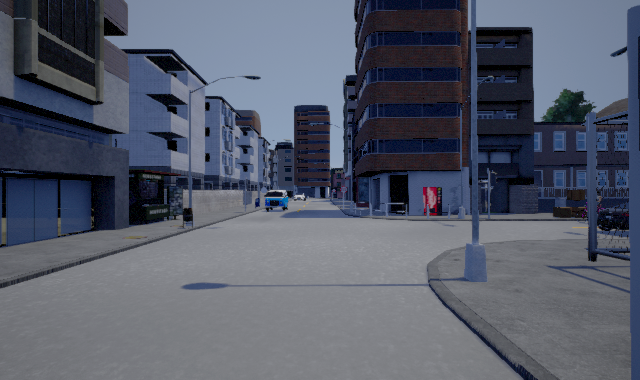traffic_sign: (340, 186, 347, 193)
vehicle: (597, 204, 629, 231), (264, 190, 288, 212)
